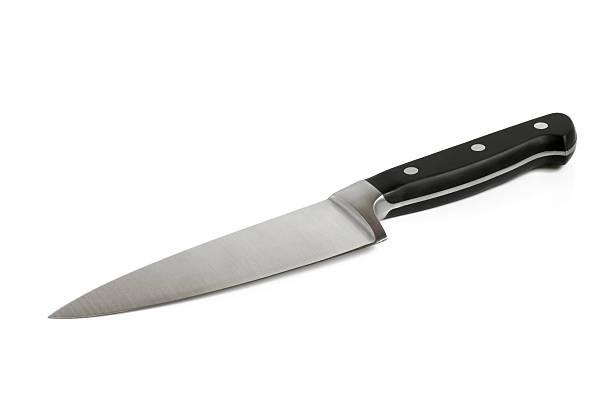knife: (45, 110, 576, 321)
